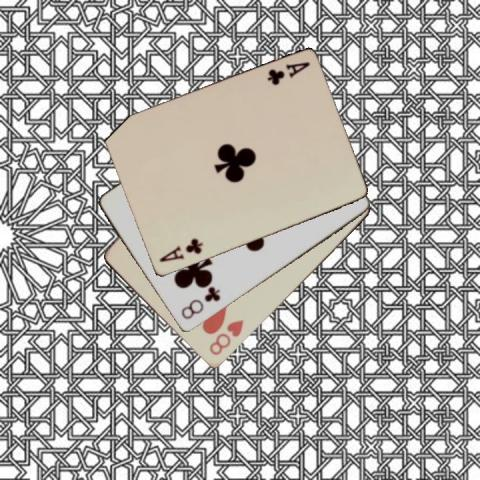8c: (178, 285, 222, 321)
8h: (206, 317, 245, 357)
Ac: (156, 236, 204, 264), (264, 59, 311, 87)
